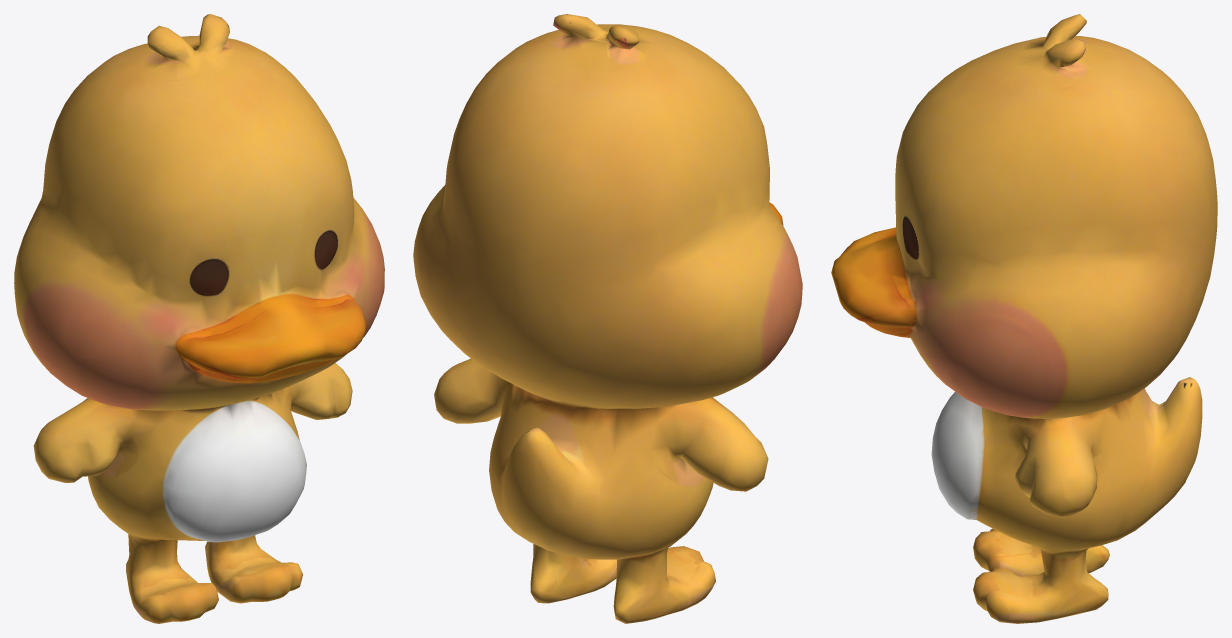
Rendered from duck.glb.
The picture shows the model from 3 angles, left to right: view 1: azimuth 30°, elevation 25°; view 2: azimuth 150°, elevation 25°; view 3: azimuth 270°, elevation 25°; orthographic projection. The views are drawn at different scales.
Bounding box in the file's own units: 1.23 × 2 × 1.24.
Materials: 1 (1 with a texture image).
